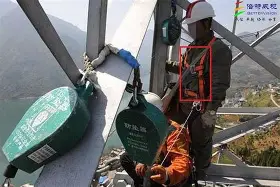safety belt: (180, 48, 212, 102)
